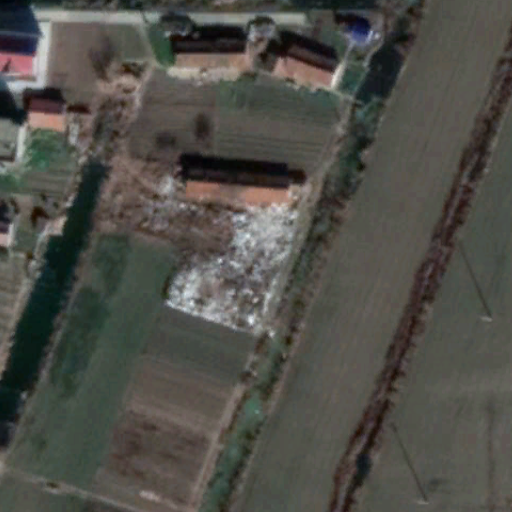msw: (162, 198, 298, 335)
